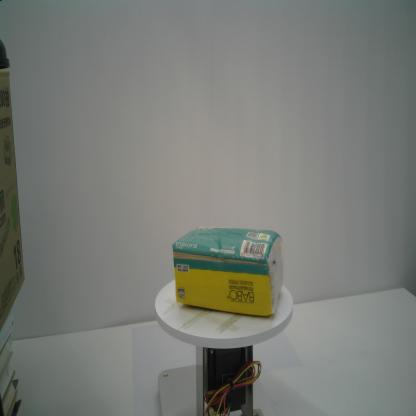Tissue: (171, 225, 286, 319)
